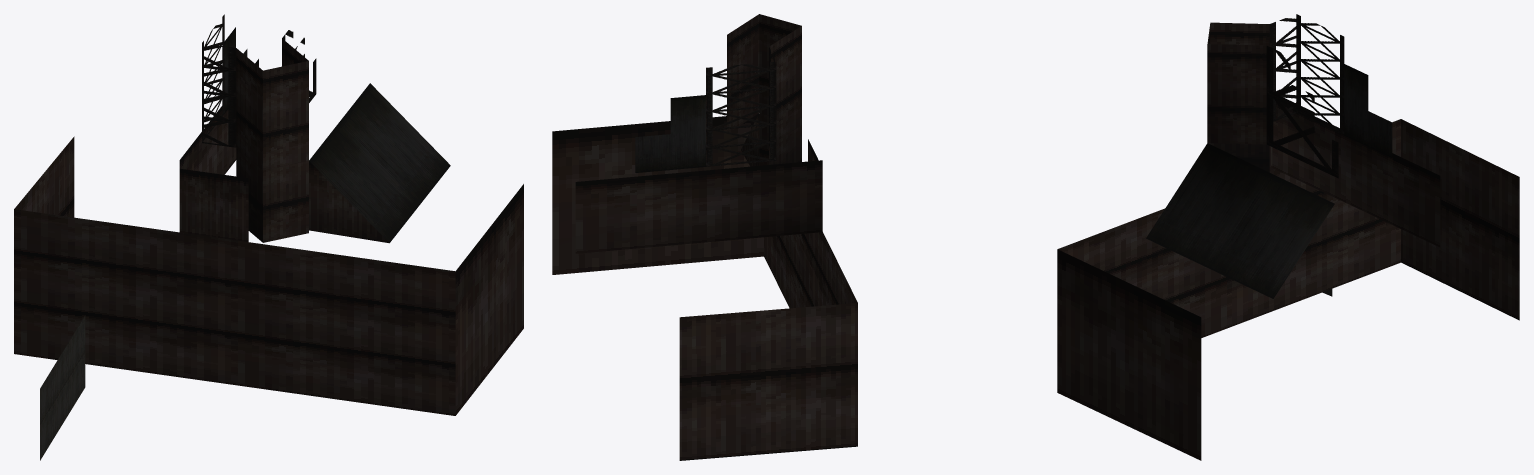
File: cell_16_-14.gltf
3 views of the same model, side by side, from view 1: azimuth 30°, elevation 25°; view 2: azimuth 150°, elevation 25°; view 3: azimuth 270°, elevation 25° (orthographic).
Parts seen in each view (by area): view 1: cell_16_-14; view 2: cell_16_-14; view 3: cell_16_-14.
Boxes of the visible parts, <box> form: cell_16_-14: <box>14,14,523,460</box>; cell_16_-14: <box>552,14,857,460</box>; cell_16_-14: <box>1057,14,1519,460</box>.
Bounding box in the file's own units: 61.27 × 40.47 × 51.32.
4 materials, 4 textured.
